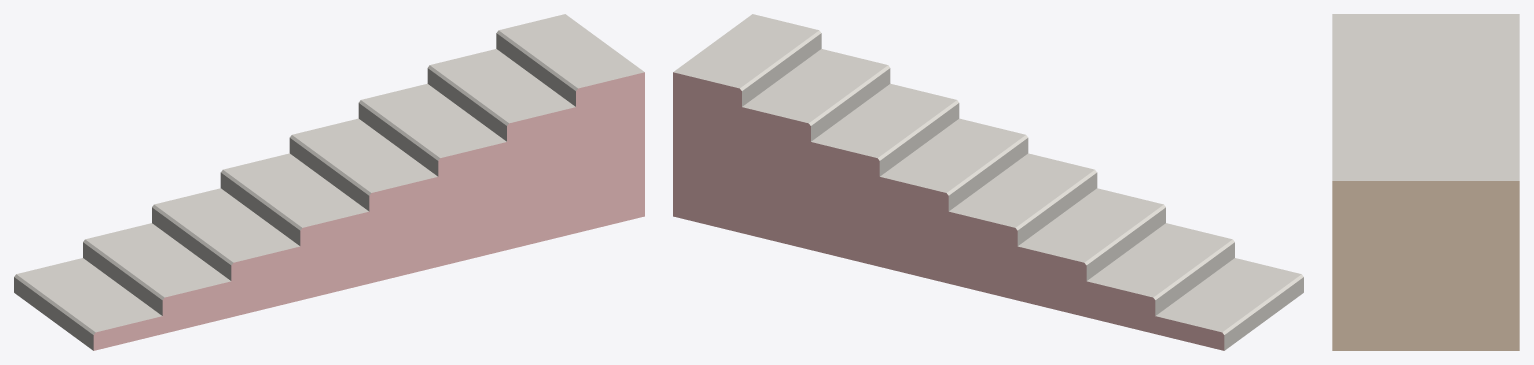
The model's file is Tiered_Walkway_Steps_Straight_1x4.glb.
3 renders of one model, left to right at view 1: azimuth 30°, elevation 25°; view 2: azimuth 150°, elevation 25°; view 3: azimuth 270°, elevation 25°, orthographic. The views are drawn at different scales.
Parts seen in each view (by area): view 1: Tiered_Walkway_Steps_Straight_1x4; view 2: Tiered_Walkway_Steps_Straight_1x4; view 3: Tiered_Walkway_Steps_Straight_1x4.
Boxes of the visible parts, bbox=[...] form: Tiered_Walkway_Steps_Straight_1x4: bbox=[14, 14, 644, 350]; Tiered_Walkway_Steps_Straight_1x4: bbox=[673, 14, 1303, 350]; Tiered_Walkway_Steps_Straight_1x4: bbox=[1332, 14, 1519, 350].
Size of the model in its own units: 400 by 100 by 100.
